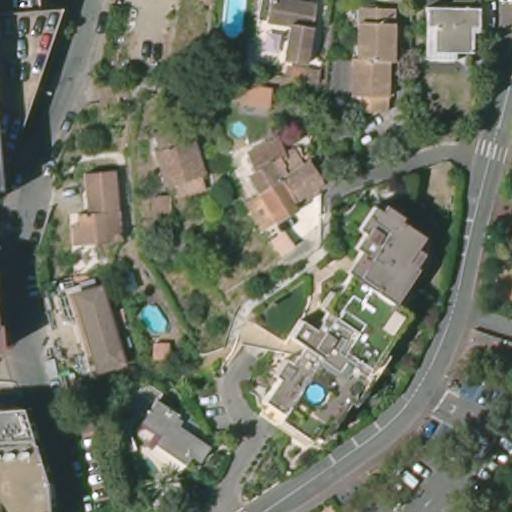pool: (135, 301, 177, 338), (214, 0, 250, 38), (221, 117, 254, 138), (304, 380, 325, 404)
